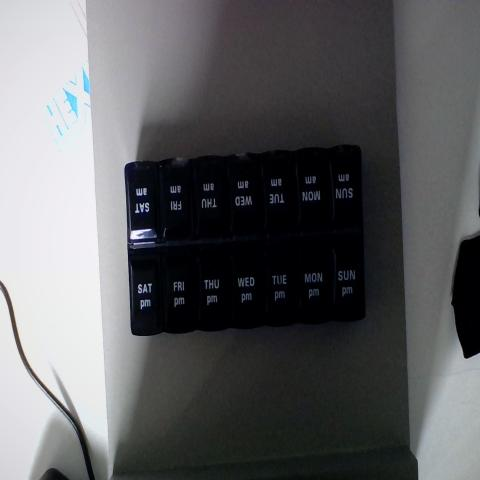FRI-am: (161, 161, 193, 240)
FRI-pm: (164, 252, 196, 325)
MON-am: (298, 153, 328, 233)
MON-pm: (297, 246, 332, 320)
PillBox: (103, 132, 390, 368)
SAT-am: (126, 164, 162, 246)
SAT-pm: (129, 255, 163, 328)
SUN-am: (330, 150, 362, 232)
SUN-pm: (331, 243, 365, 320)
THU-am: (191, 158, 227, 238)
THU-pm: (196, 248, 228, 326)
TUE-am: (262, 152, 296, 236)
TUE-pm: (267, 241, 297, 323)
WED-am: (228, 155, 262, 236)
WED-pm: (230, 245, 263, 326)
